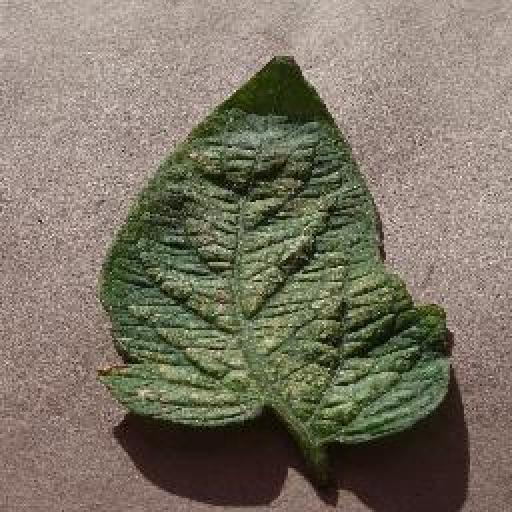Spider Mites: (105, 52, 452, 447)
